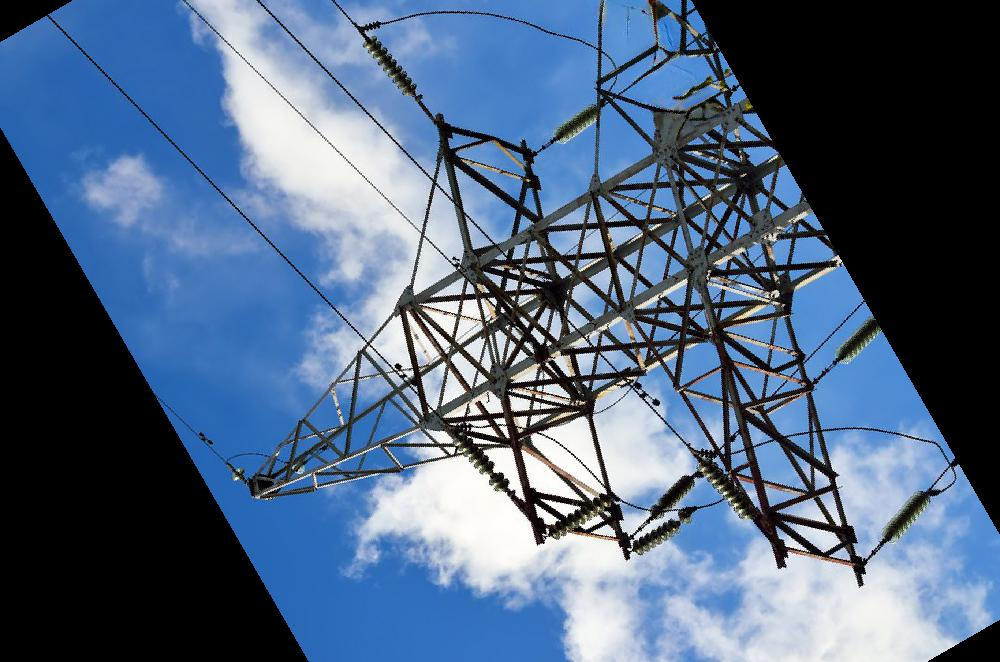insulator: (692, 455, 757, 523), (447, 429, 511, 496), (362, 32, 424, 101), (543, 491, 616, 542), (629, 506, 697, 559), (877, 487, 935, 547), (646, 471, 702, 520), (832, 317, 885, 368), (548, 100, 605, 147)
insulator_stringdrop: (476, 458, 505, 487), (668, 507, 695, 535)
